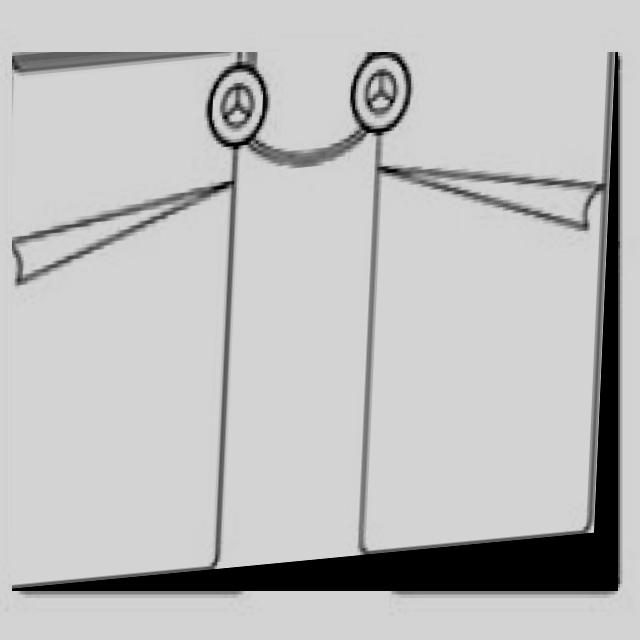bed: (12, 52, 618, 591)
